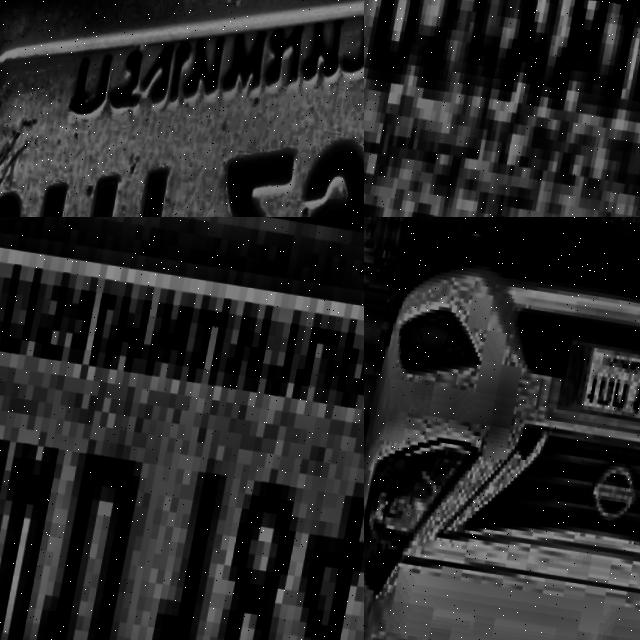license-plate: (0, 217, 364, 640), (0, 0, 364, 217), (364, 0, 640, 217), (561, 332, 640, 430)
